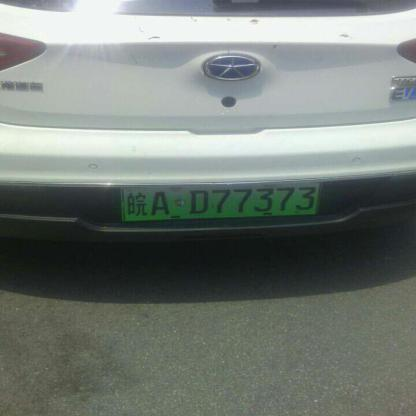lp: (124, 181, 322, 220)
